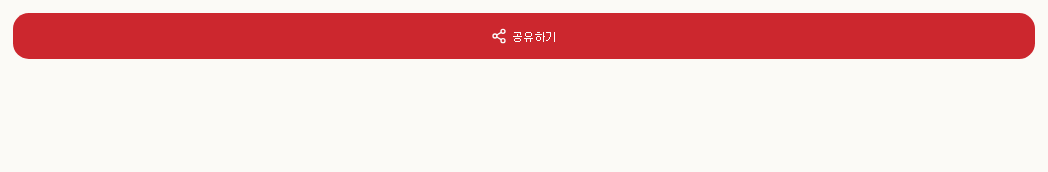
it: ShareButton › PC에서는 공유 시트를 열지 않고 링크를 복사한다
What coordinates should you click on to do the following:
click the button "공유하기"
I would click on:
 (524, 36)
Its box is [12,12,1036,60].
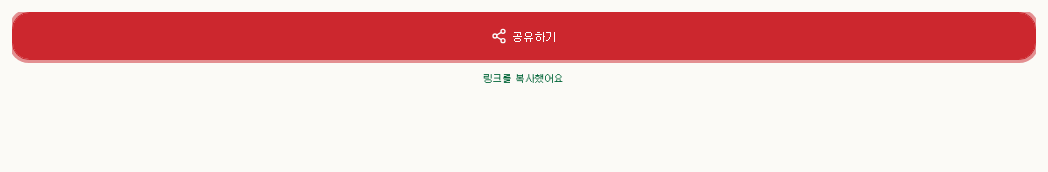
Now the text "링크를 복사했어요" is shown, box [484,68,564,88]
